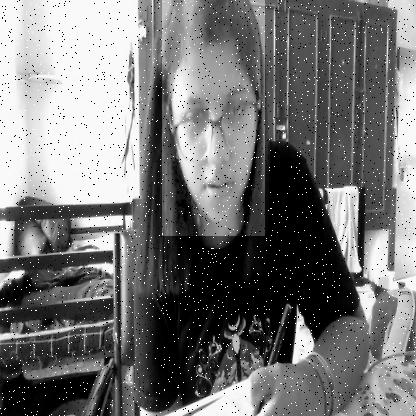Normal: (162, 0, 265, 236)
